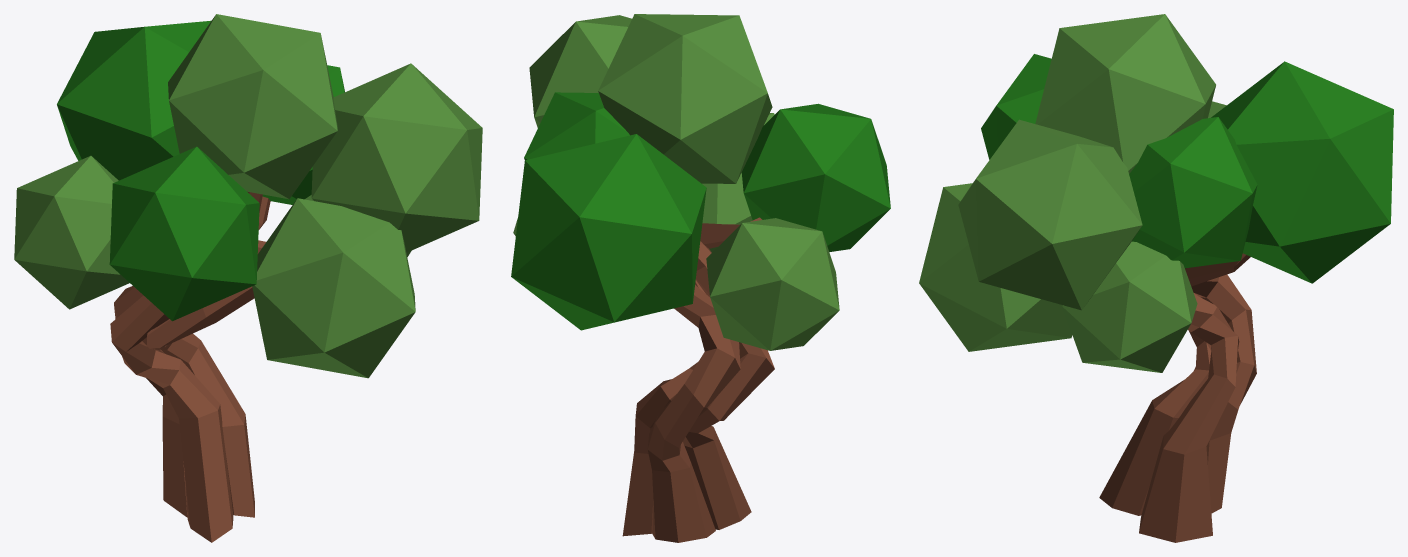
Rendered from Tree_06_summer_vc.fbx.
3 views of the same model, side by side, from view 1: azimuth 30°, elevation 25°; view 2: azimuth 150°, elevation 25°; view 3: azimuth 270°, elevation 25° (orthographic). The views are drawn at different scales.
Parts seen in each view (by area): view 1: Tree_06_summer_vc; view 2: Tree_06_summer_vc; view 3: Tree_06_summer_vc.
Part boxes in pixels (x1,y1,x2,y2): Tree_06_summer_vc: [14, 14, 482, 542]; Tree_06_summer_vc: [511, 14, 890, 542]; Tree_06_summer_vc: [919, 14, 1393, 542].
Size of the model in its own units: 488 by 598 by 507.
